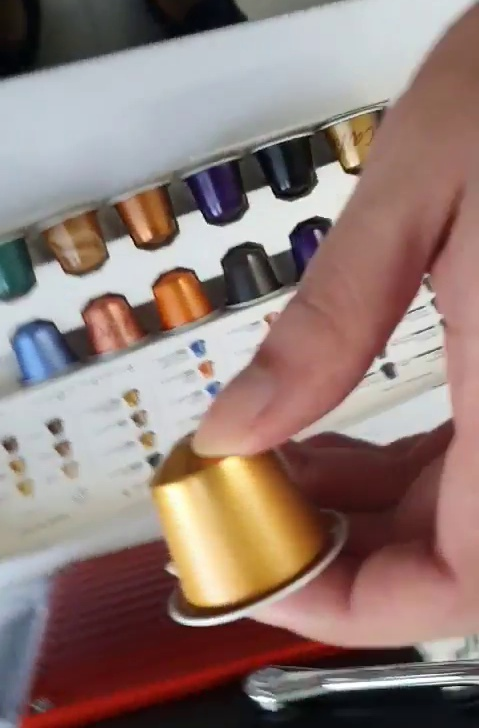capsule_8: (149, 425, 355, 623)
